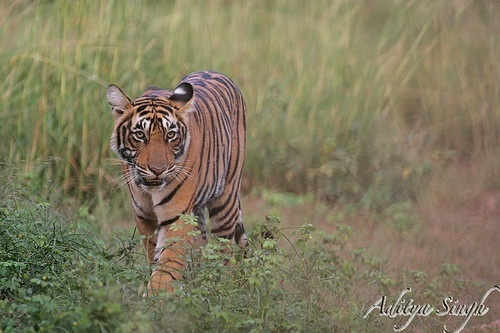tigre: (103, 64, 255, 305)
